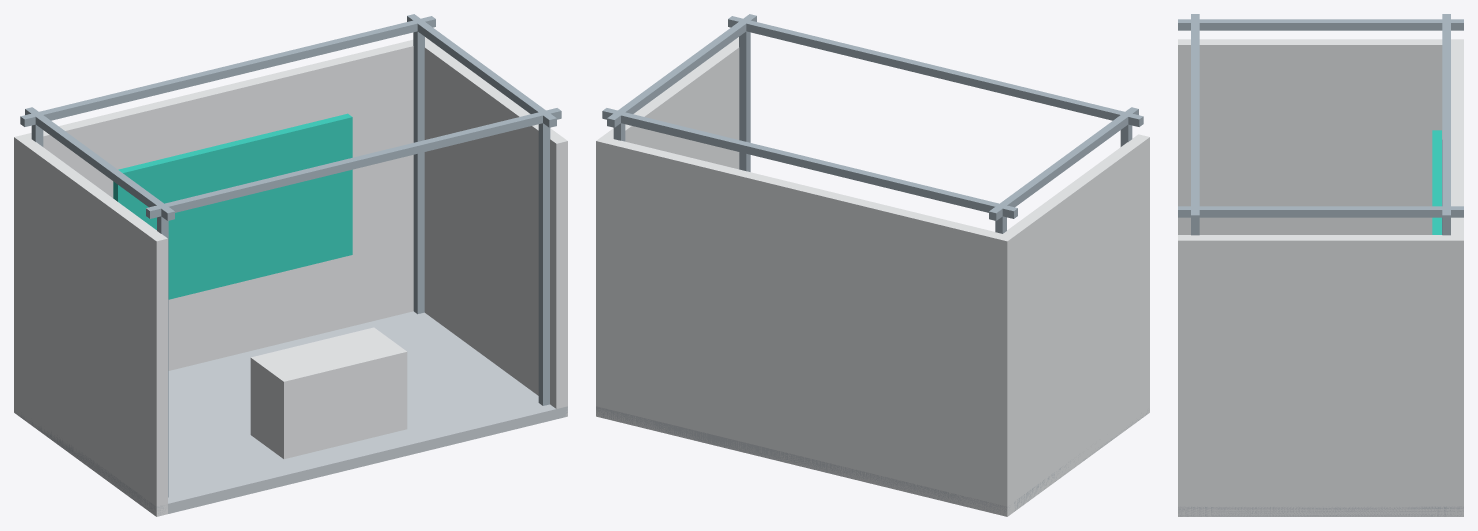
The picture shows the model from 3 angles, left to right: view 1: azimuth 30°, elevation 25°; view 2: azimuth 150°, elevation 25°; view 3: azimuth 270°, elevation 25°; orthographic projection.
Parts seen in each view (by area): view 1: Exhibition Booth Concept; view 2: Exhibition Booth Concept; view 3: Exhibition Booth Concept.
Part boxes in pixels (left/top/right/bottom): Exhibition Booth Concept: left=14, top=14, right=567, bottom=516; Exhibition Booth Concept: left=596, top=14, right=1149, bottom=516; Exhibition Booth Concept: left=1178, top=14, right=1463, bottom=516.
Bounding box in the file's own units: 5 × 3.49 × 3.
